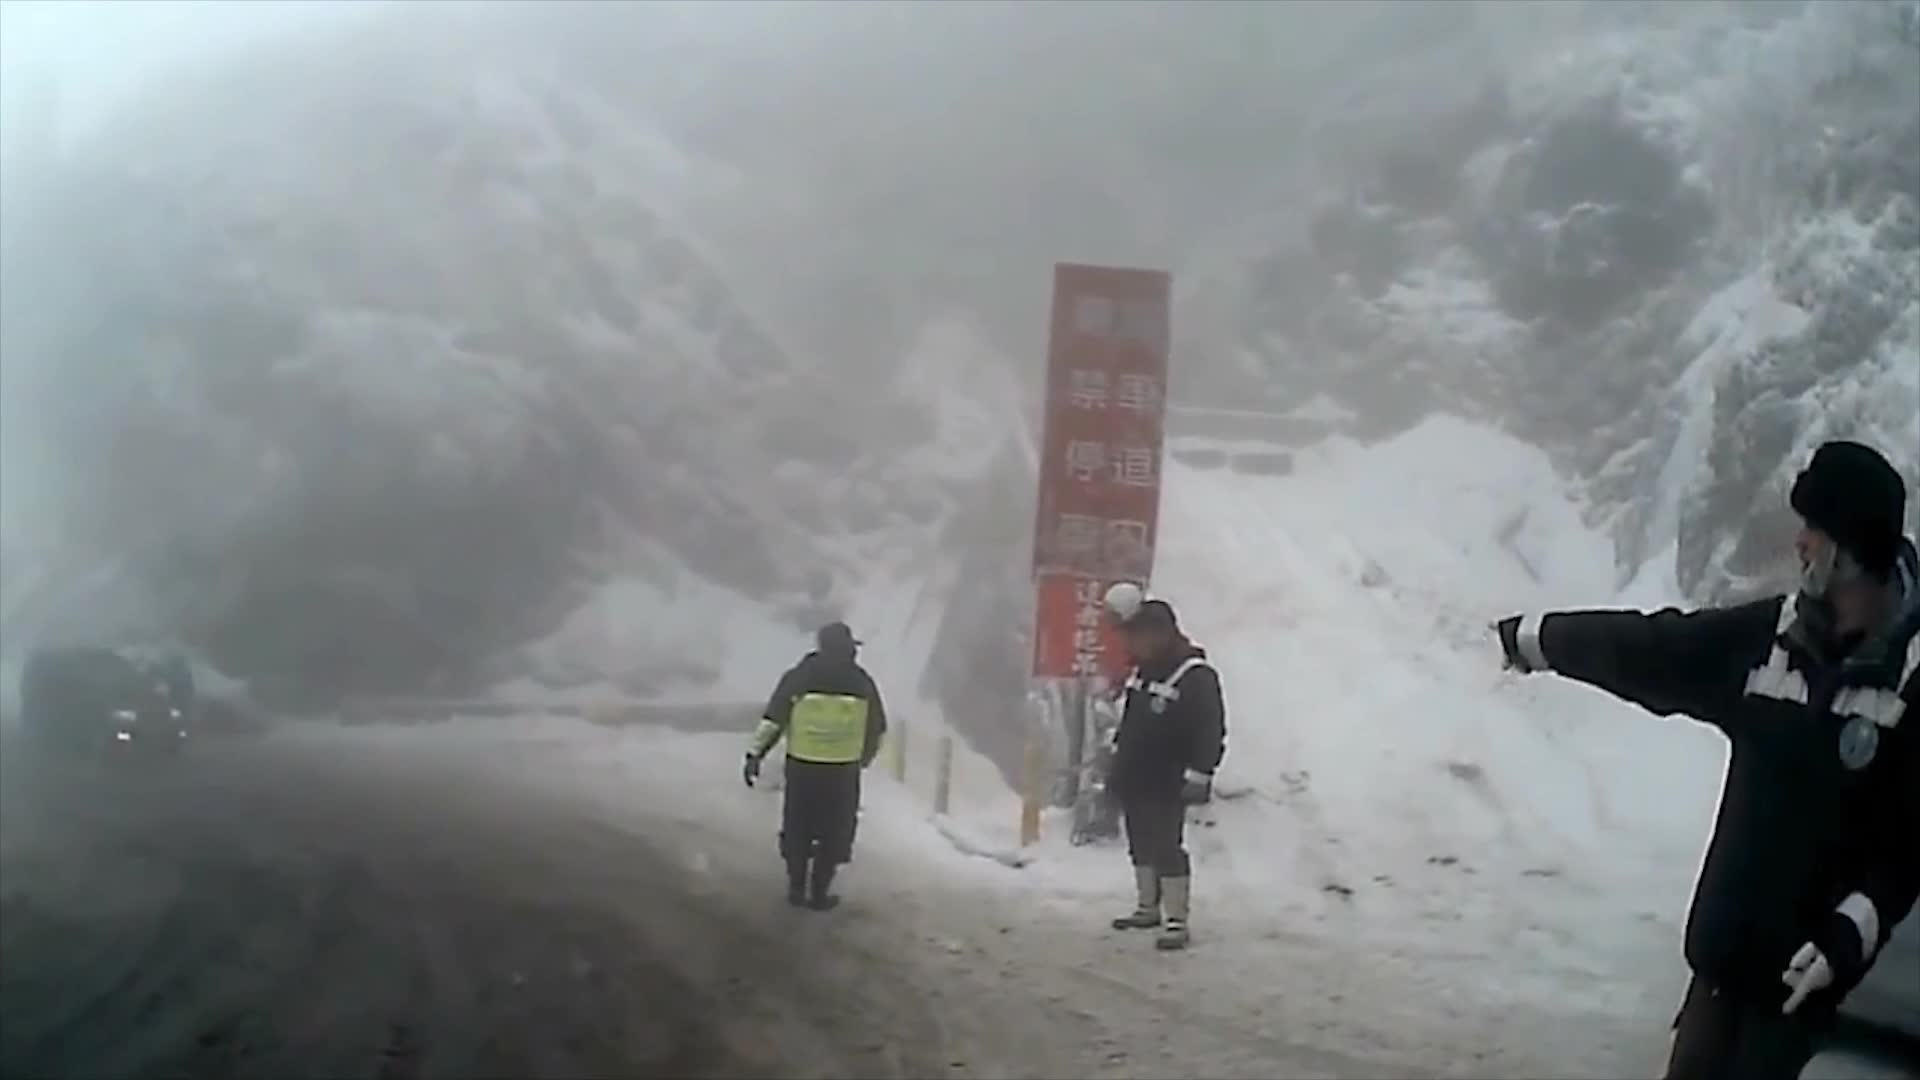pedestrian: (1474, 441, 1914, 1080), (1107, 606, 1229, 954), (741, 635, 886, 917)
vehicle: (20, 646, 189, 768)
